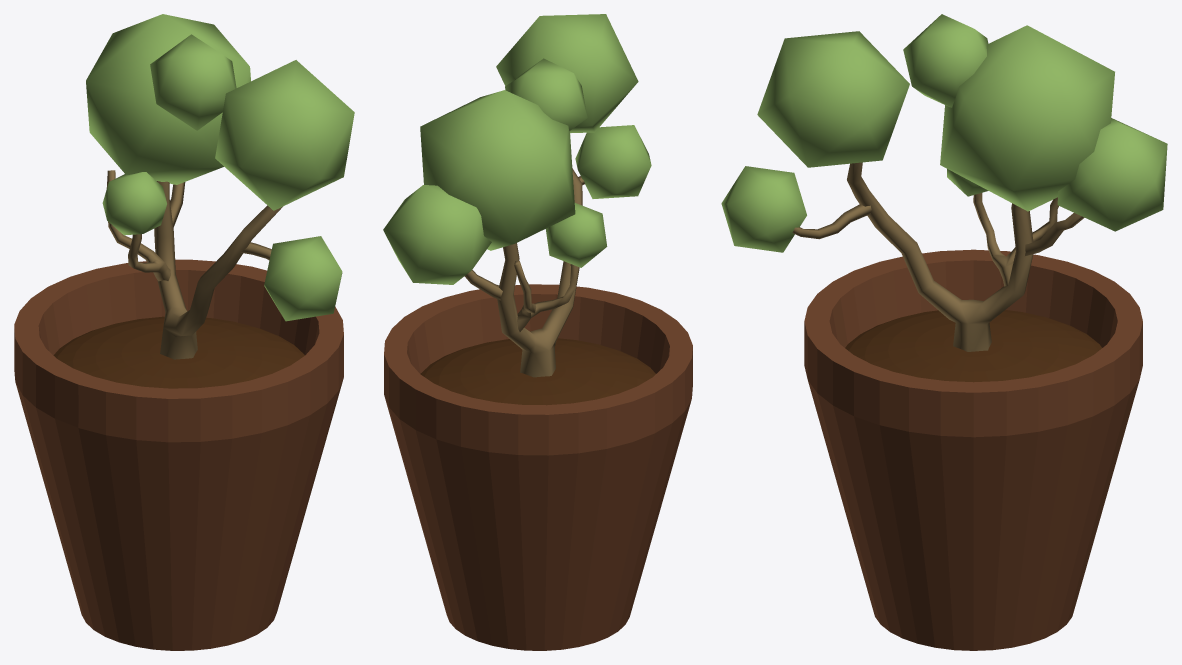
File: Small Plant Pot.fbx
3 views of the same model, side by side, from view 1: azimuth 30°, elevation 25°; view 2: azimuth 150°, elevation 25°; view 3: azimuth 270°, elevation 25° (orthographic). The views are drawn at different scales.
Parts seen in each view (by area): view 1: Sphere.001; view 2: Sphere.001; view 3: Sphere.001.
Boxes of the visible parts, left/top/right/bottom form: Sphere.001: left=14, top=14, right=354, bottom=650; Sphere.001: left=383, top=14, right=692, bottom=650; Sphere.001: left=721, top=14, right=1167, bottom=650.
Bounding box in the file's own units: 200 × 387 × 264.
